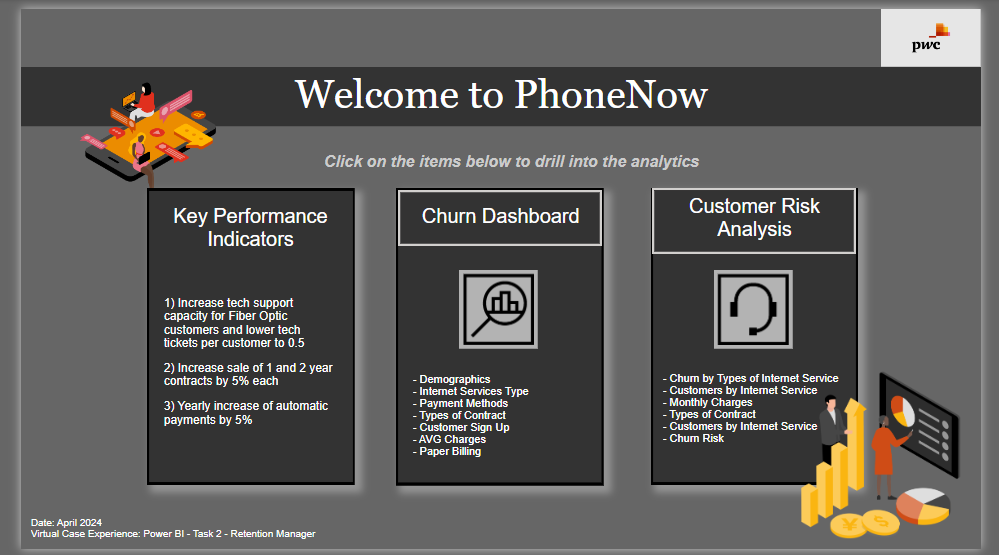

What the dashboard file says about the page in this screenshot:
{"tool":"powerbi","page":{"name":"Welcome","canvas":[1280,720],"ordinal":0},"visuals":[{"type":"basicShape","box":[500.5,238.4,276.8,396.5],"z":0},{"type":"basicShape","box":[840,238.7,276,396],"z":1000},{"type":"textbox","box":[0,77,1280,78.9],"z":2000},{"type":"basicShape","box":[7.9,155.9,1243.8,40.7],"z":3000},{"type":"image","box":[924.5,347.8,105,105],"z":4000},{"type":"textbox","box":[840,242.7,276,73.3],"z":5000},{"type":"image","box":[584.4,347.8,105,105],"z":6000},{"type":"textbox","box":[28.2,186.1,1251.8,51.6],"z":7000},{"type":"image","box":[0,0,362.6,328.8],"z":8000},{"type":"textbox","box":[500.9,256.2,276.7,86.7],"z":9000},{"type":"textbox","box":[517.4,479.5,255.3,140.1],"z":10000},{"type":"textbox","box":[7.9,672.2,397.7,47.4],"z":11000},{"type":"image","box":[1013.1,479.3,266.9,232.8],"z":12000},{"type":"textbox","box":[850.4,479.3,255.2,140.3],"z":13000},{"type":"basicShape","box":[168,238.7,277.3,396],"z":14000},{"type":"textbox","box":[168,256,276,86.7],"z":15000},{"type":"textbox","box":[185.3,362.7,241.3,272],"z":16000},{"type":"image","box":[1146.7,0,133.3,77.3],"z":17000},{"type":"actionButton","box":[502.7,241.3,272,74.7],"z":17001},{"type":"actionButton","box":[841.3,238.7,272,88],"z":17002}]}

Visuals, with their boxes in screenshot pixels (x1, y1, x2, y2), scaled from the page's 1280x720 canvas onto the 999x555 screenshot:
basicShape: (x1=391, y1=184, x2=607, y2=489)
basicShape: (x1=656, y1=184, x2=871, y2=489)
textbox: (x1=0, y1=59, x2=998, y2=120)
basicShape: (x1=6, y1=120, x2=977, y2=152)
image: (x1=722, y1=268, x2=803, y2=349)
textbox: (x1=656, y1=187, x2=871, y2=244)
image: (x1=456, y1=268, x2=538, y2=349)
textbox: (x1=22, y1=143, x2=998, y2=183)
image: (x1=0, y1=0, x2=283, y2=253)
textbox: (x1=391, y1=197, x2=607, y2=264)
textbox: (x1=404, y1=370, x2=603, y2=478)
textbox: (x1=6, y1=518, x2=317, y2=554)
image: (x1=791, y1=369, x2=998, y2=549)
textbox: (x1=664, y1=369, x2=863, y2=478)
basicShape: (x1=131, y1=184, x2=348, y2=489)
textbox: (x1=131, y1=197, x2=347, y2=264)
textbox: (x1=145, y1=280, x2=333, y2=489)
image: (x1=895, y1=0, x2=998, y2=60)
actionButton: (x1=392, y1=186, x2=605, y2=244)
actionButton: (x1=657, y1=184, x2=869, y2=252)
